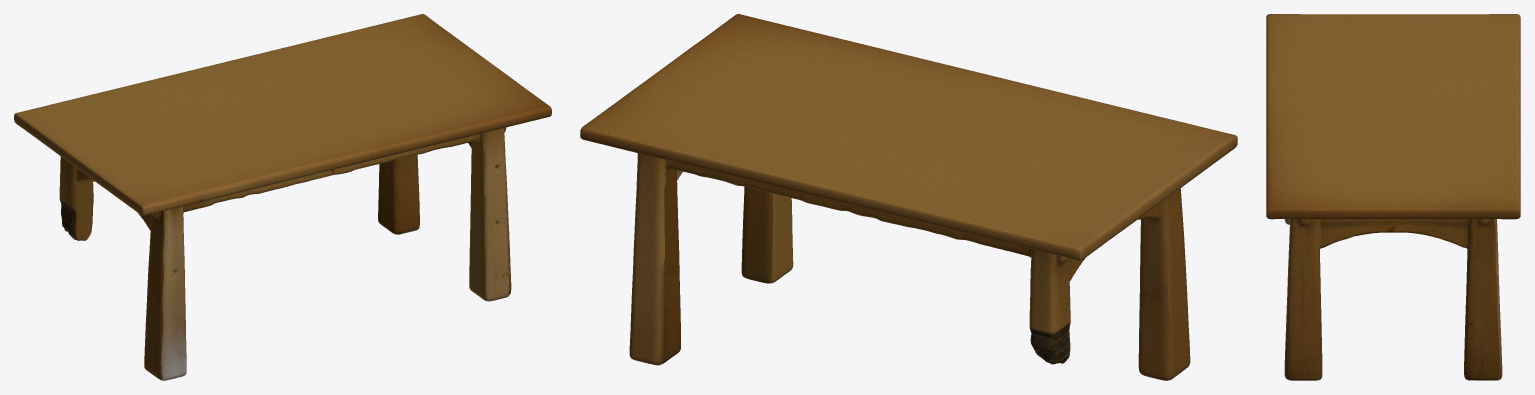
File: desk__desk#4.glb
3 renders of one model, left to right at view 1: azimuth 30°, elevation 25°; view 2: azimuth 150°, elevation 25°; view 3: azimuth 270°, elevation 25°, orthographic. The views are drawn at different scales.
Visible parts, largest first — view 1: tmpev0wcgij.ply; view 2: tmpev0wcgij.ply; view 3: tmpev0wcgij.ply.
Part boxes in pixels (box(x1,y1,x2,y2)): tmpev0wcgij.ply: box(14, 14, 551, 380); tmpev0wcgij.ply: box(580, 14, 1237, 380); tmpev0wcgij.ply: box(1266, 14, 1520, 380).
Size of the model in its own units: 1.99 by 0.8819 by 1.09.
Materials: 1 (1 with a texture image).
